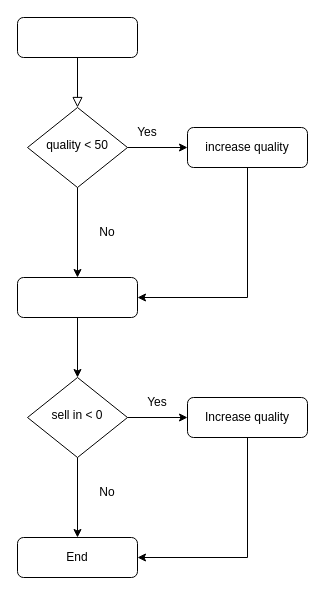
This 325x595 diagram has some shape labels left out. Each missing label, with the box of its shape:
decrease sell in: (16, 276, 138, 318)
Good wine: (16, 16, 138, 58)
